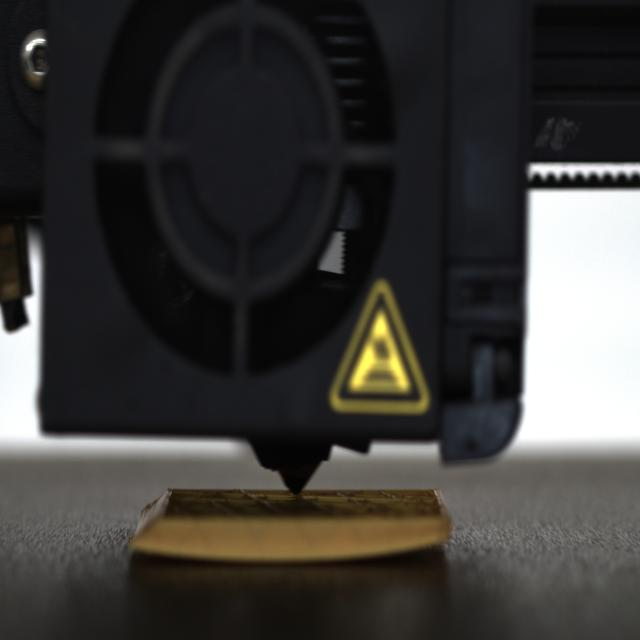Warping: (360, 533, 448, 565)
